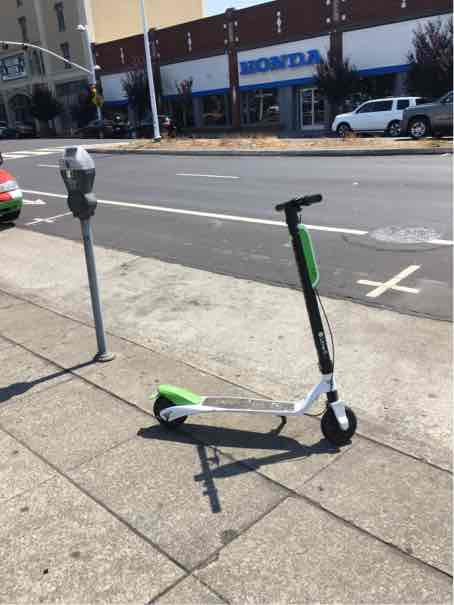scooter: (139, 181, 354, 461)
